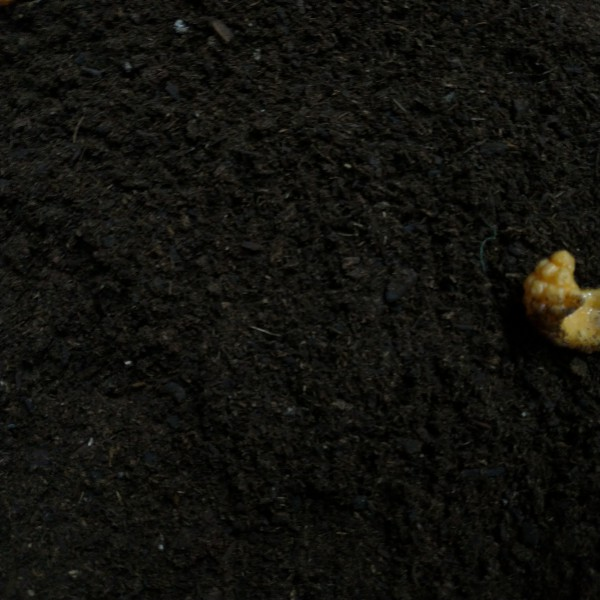eggs: (522, 248, 600, 352)
